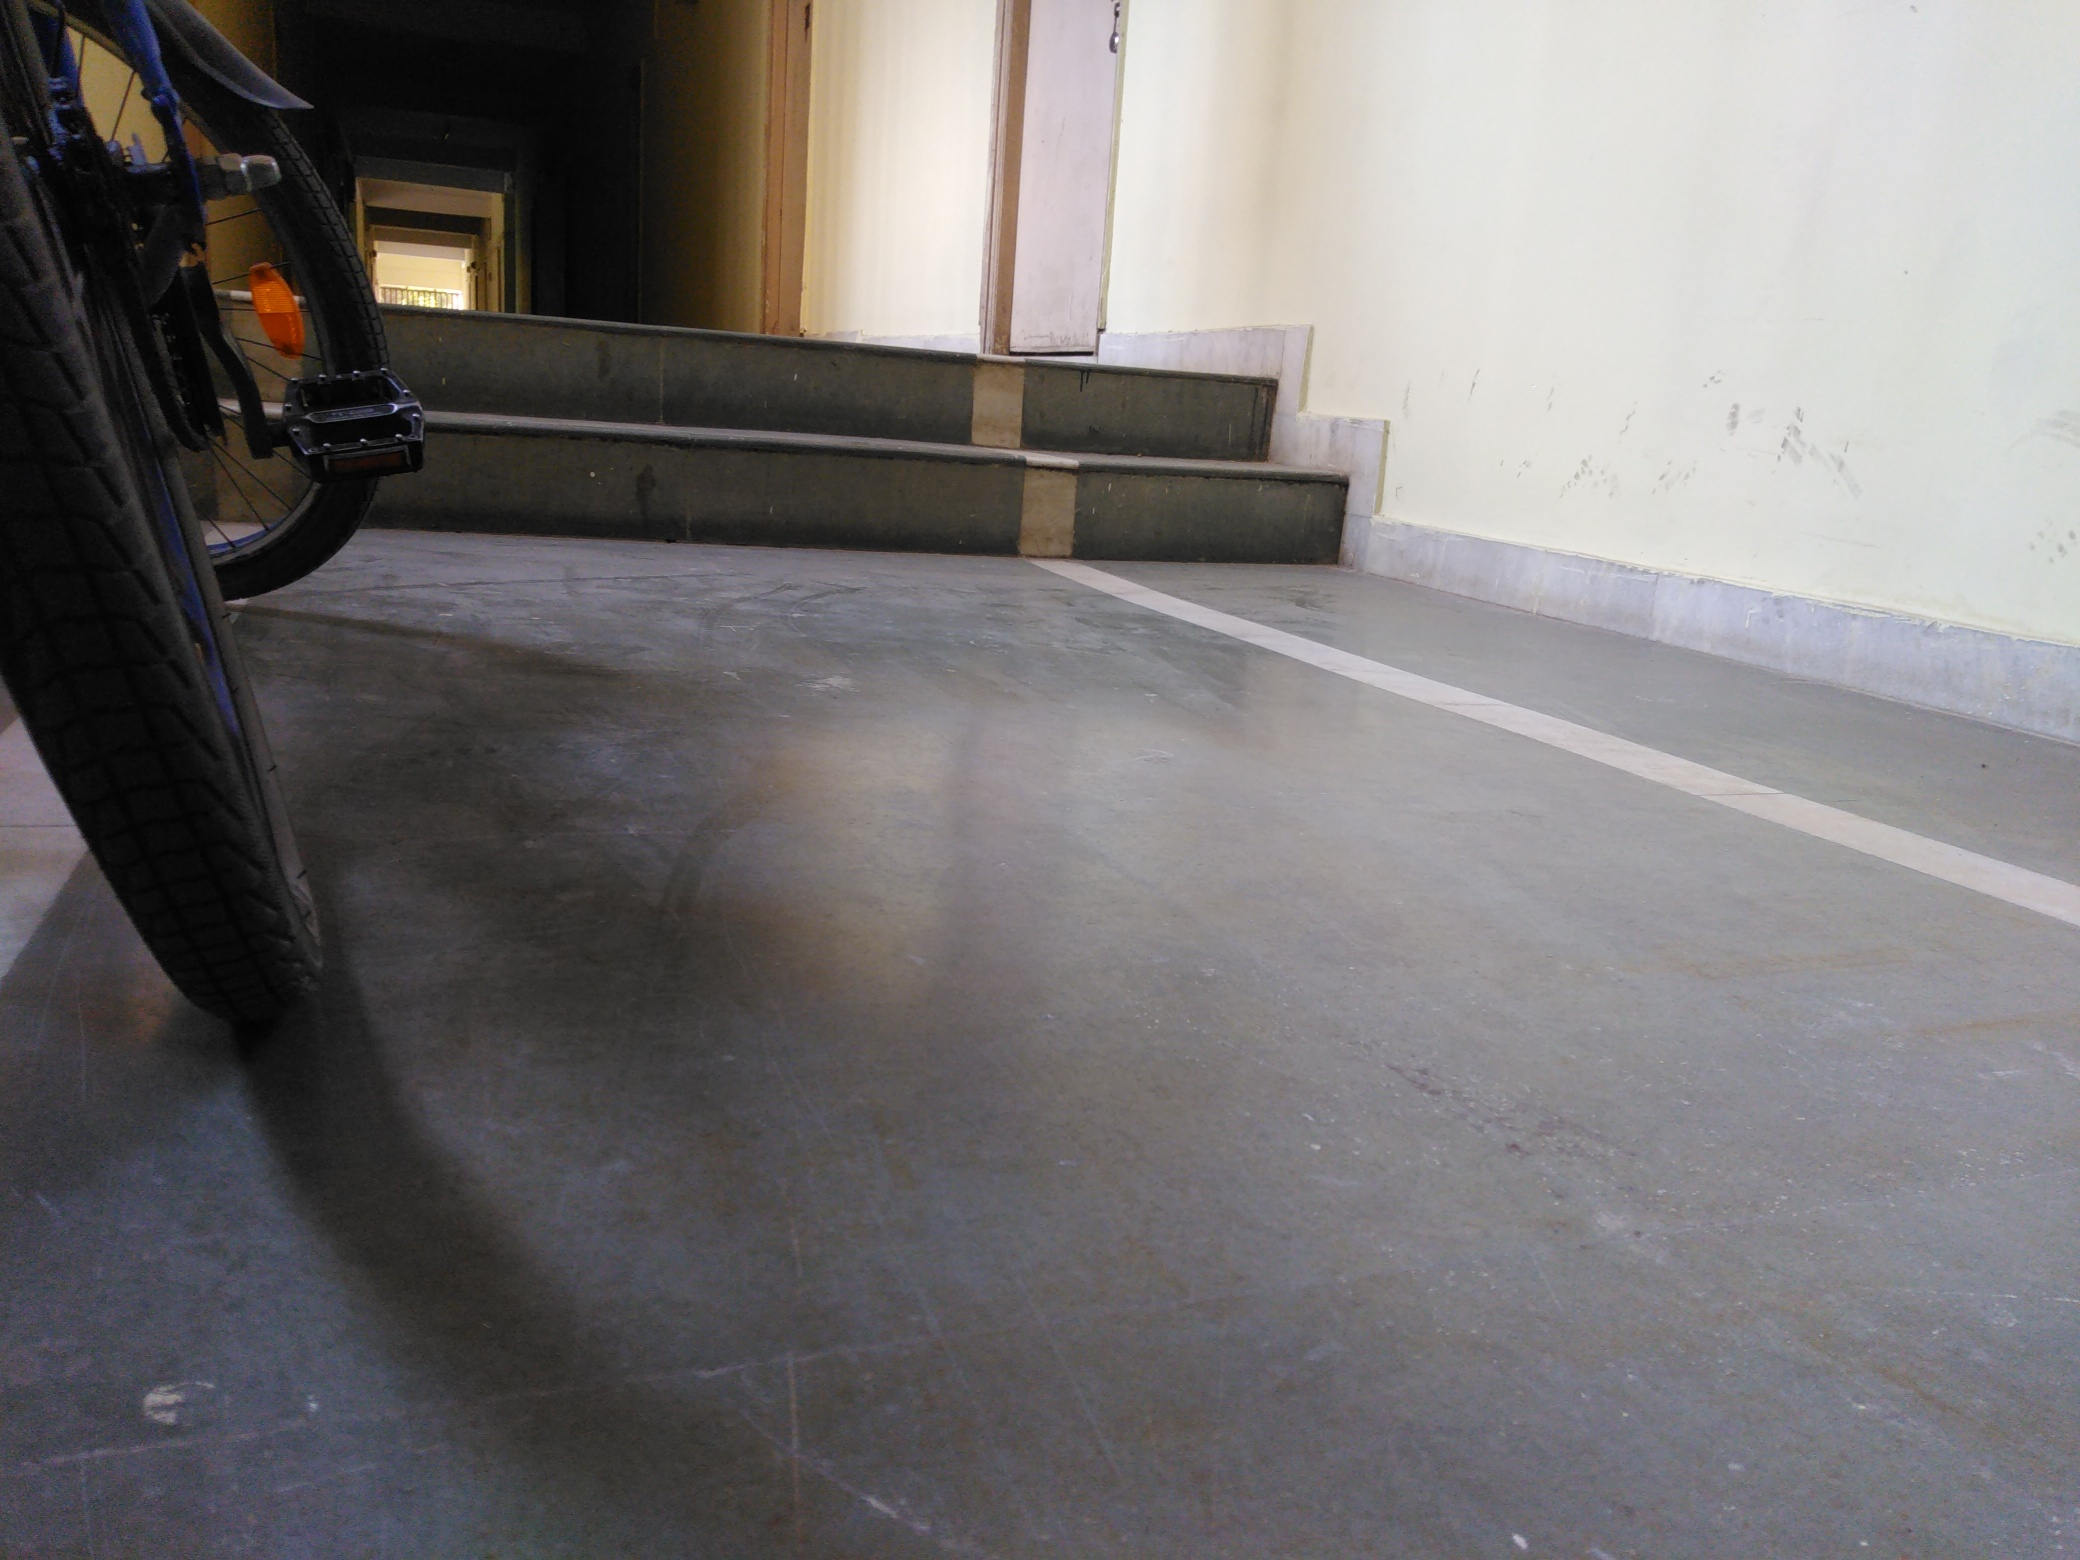stairs_up: (314, 292, 1318, 556)
